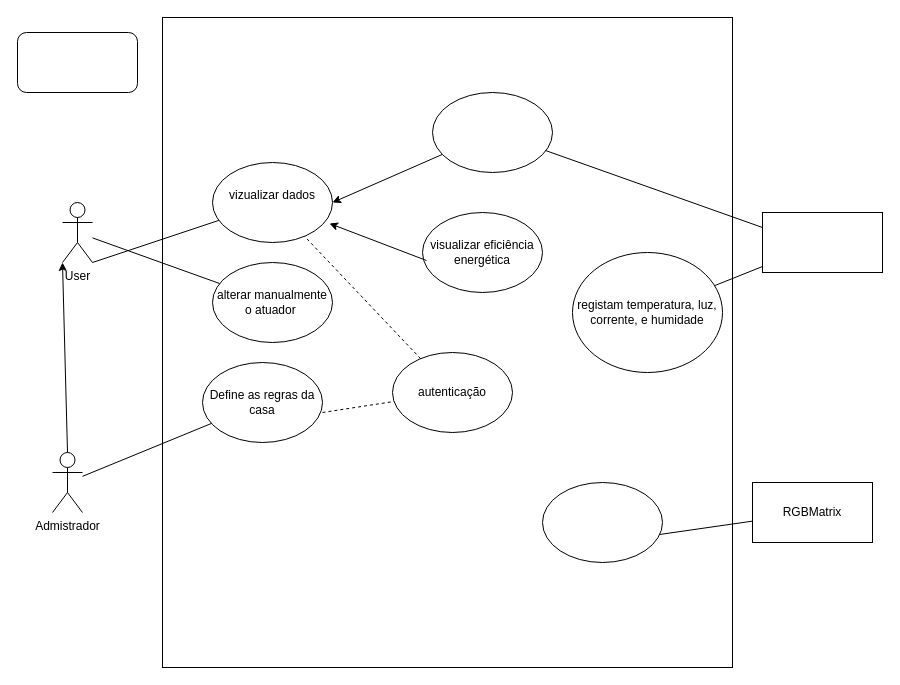
This 900x685 diagram has some shape labels left out. Here are the shapes that lost their labels. From the top down, the centre of each, then its label:
At point 77,62: "Empresa".
At point 492,132: "vizualizar dados da casa".
At point 822,242: "MsgCreator".
At point 602,522: "controla os estados da casa".
